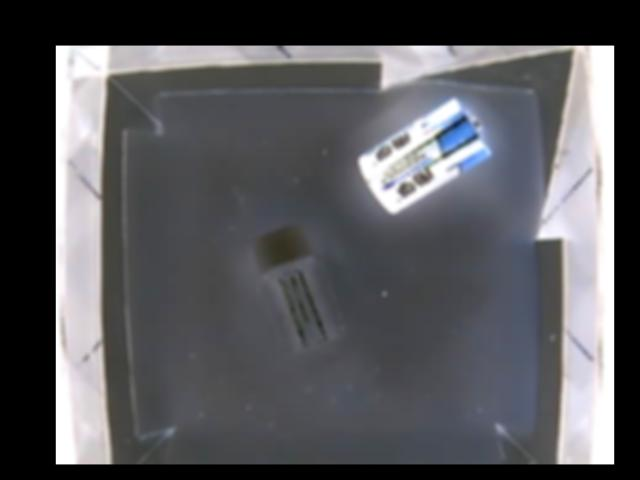Battery: (355, 97, 493, 211)
Bottle: (247, 232, 341, 350)
